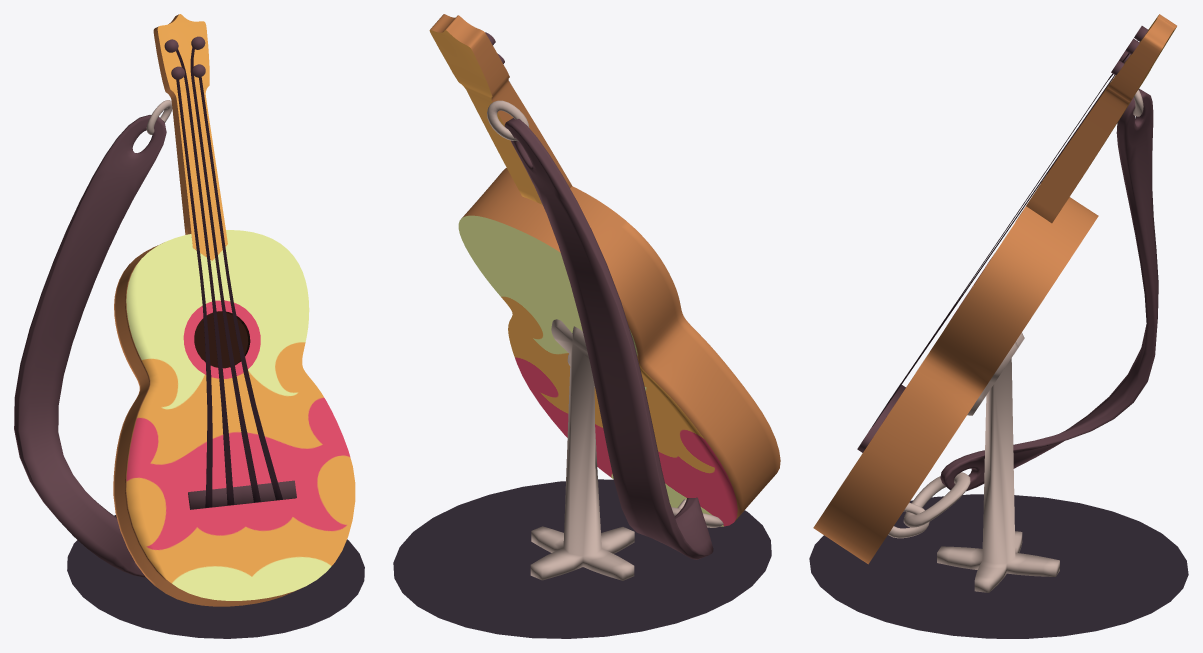
File: ukule.glb
3 views of the same model, side by side, from view 1: azimuth 30°, elevation 25°; view 2: azimuth 150°, elevation 25°; view 3: azimuth 270°, elevation 25° (orthographic). The views are drawn at different scales.
Visible parts, largest first — view 1: Cube.012_0; view 2: Cube.012_0; view 3: Cube.012_0.
Boxes of the visible parts, x1=… form: Cube.012_0: x1=14, y1=14, x2=364, y2=638; Cube.012_0: x1=393, y1=14, x2=780, y2=638; Cube.012_0: x1=809, y1=14, x2=1188, y2=638.
Size of the model in its own units: 111 by 198 by 120.
Materials: 4 (3 with a texture image).
